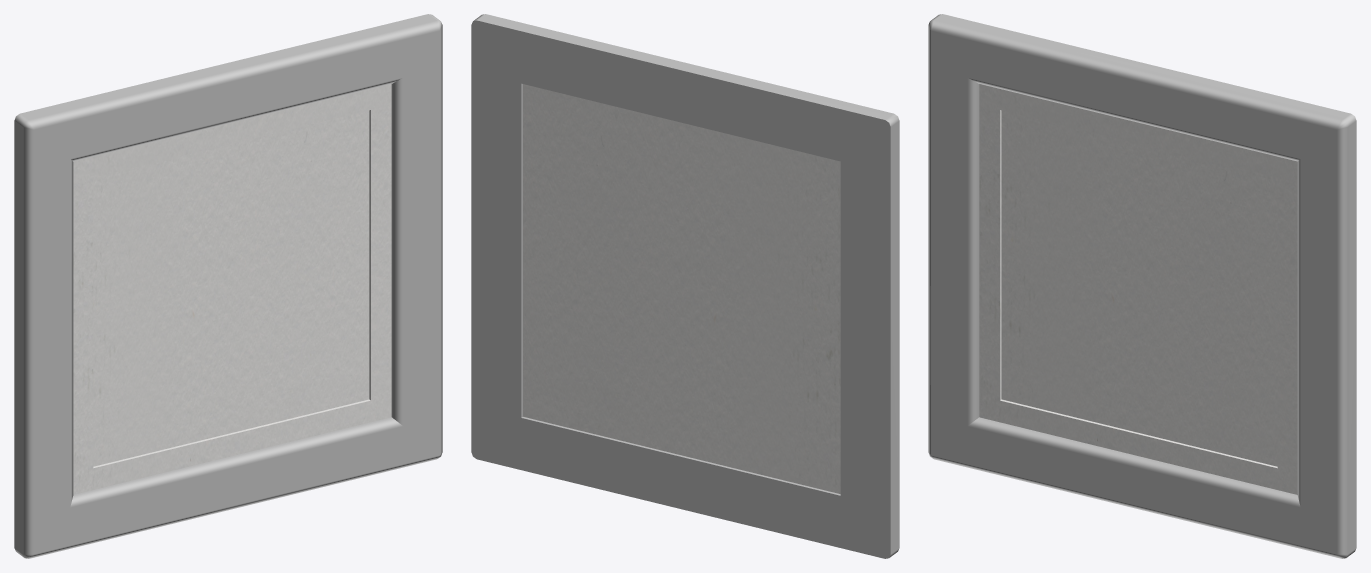
File: PictureFrame-Dark.fbx
3 views of the same model, side by side, from view 1: azimuth 30°, elevation 25°; view 2: azimuth 150°, elevation 25°; view 3: azimuth 330°, elevation 25° (orthographic).
Parts seen in each view (by area): view 1: PictureFrame-Dark; view 2: PictureFrame-Dark; view 3: PictureFrame-Dark.
Boxes of the visible parts, bbox=[...] form: PictureFrame-Dark: bbox=[14, 14, 442, 558]; PictureFrame-Dark: bbox=[471, 14, 899, 558]; PictureFrame-Dark: bbox=[928, 14, 1356, 558].
Size of the model in its own units: 151 by 151 by 8.
